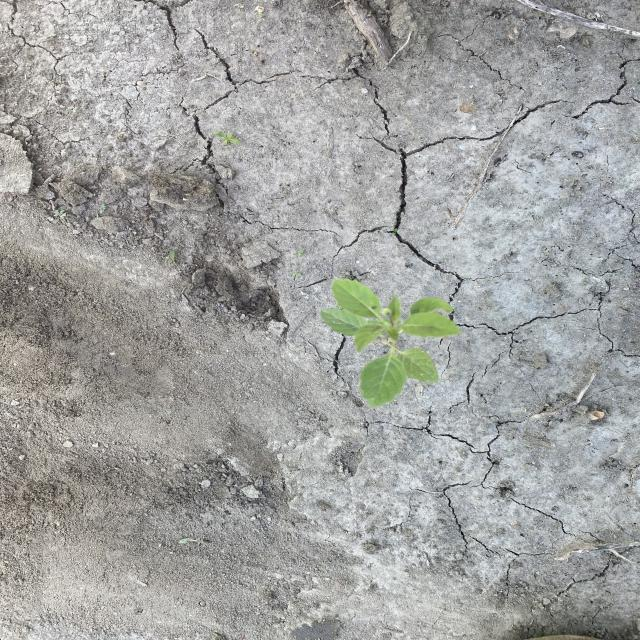CutleafGroundcherry: (318, 277, 465, 410)
